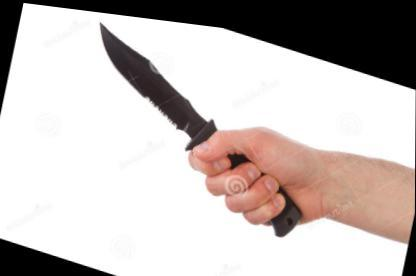knife: (65, 10, 302, 214)
